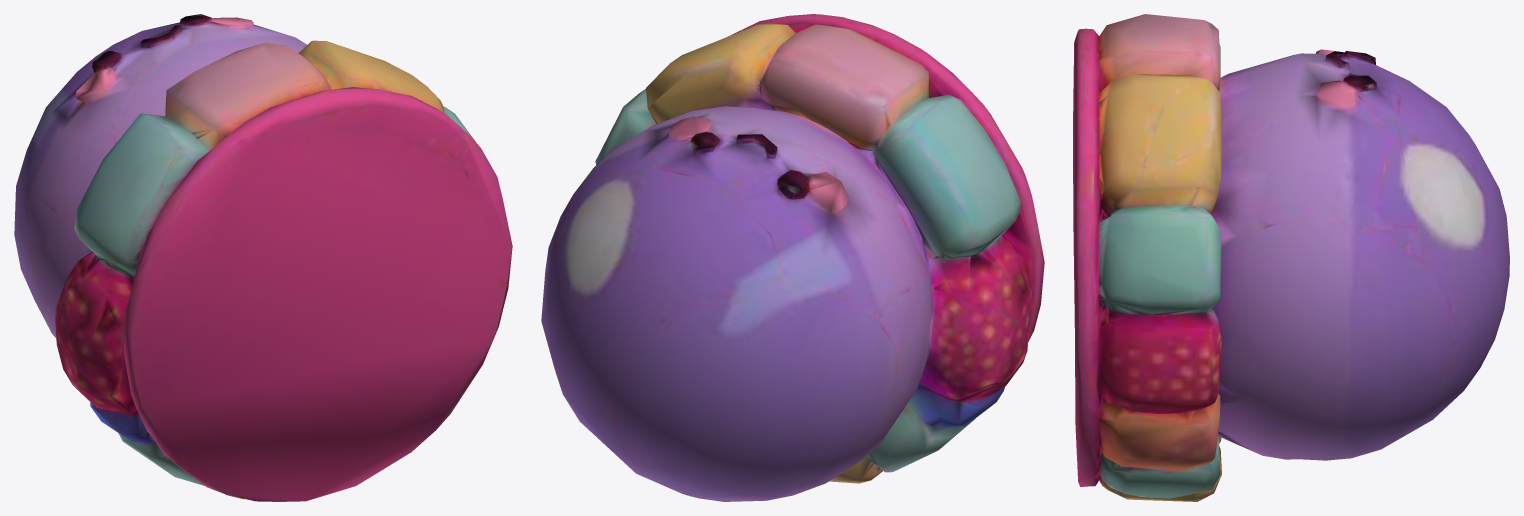
3 renders of one model, left to right at view 1: azimuth 30°, elevation 25°; view 2: azimuth 150°, elevation 25°; view 3: azimuth 270°, elevation 25°, orthographic. The views are drawn at different scales.
Visible parts, largest first — view 1: material; view 2: material; view 3: material.
Boxes of the visible parts, left/top/right/bottom form: material: left=14, top=14, right=512, bottom=501; material: left=541, top=14, right=1044, bottom=501; material: left=1073, top=14, right=1509, bottom=501.
Size of the model in its own units: 1 by 0.9756 by 0.8798.
1 material, 1 textured.
